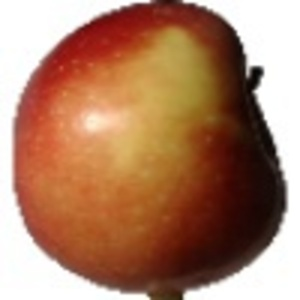maçã braeburn: (9, 4, 287, 293)
